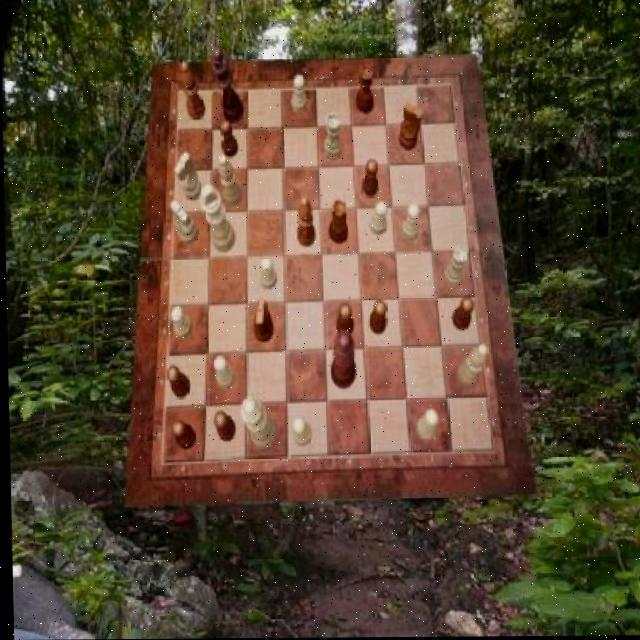bishop: (180, 62, 205, 121), (296, 196, 316, 249)
black-bishop: (212, 45, 243, 124)
black-king: (399, 104, 424, 151), (253, 298, 274, 343)
black-knight: (166, 366, 190, 401), (451, 296, 475, 331), (219, 120, 238, 159), (169, 420, 193, 450), (212, 412, 235, 443), (367, 301, 385, 336), (361, 160, 378, 197), (335, 304, 353, 338)
black-pawn: (329, 330, 355, 388)
black-queen: (355, 66, 373, 115), (328, 200, 348, 244)
black-rook: (455, 345, 486, 388), (218, 155, 242, 208)
white-bishop: (200, 185, 237, 254)
white-king: (173, 153, 202, 202), (170, 200, 198, 245)
white-knight: (413, 408, 437, 442), (212, 356, 233, 390), (171, 307, 192, 339), (401, 204, 419, 241), (368, 201, 386, 236), (292, 75, 308, 114), (290, 417, 310, 448), (258, 258, 276, 291)
white-pawn: (239, 395, 276, 450)
white-queen: (441, 247, 468, 289), (324, 114, 342, 160)
